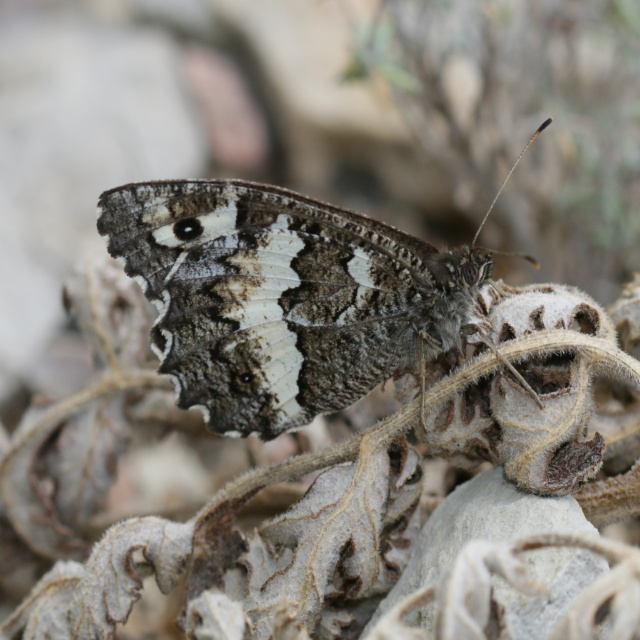Butterfly: (120, 129, 548, 483)
